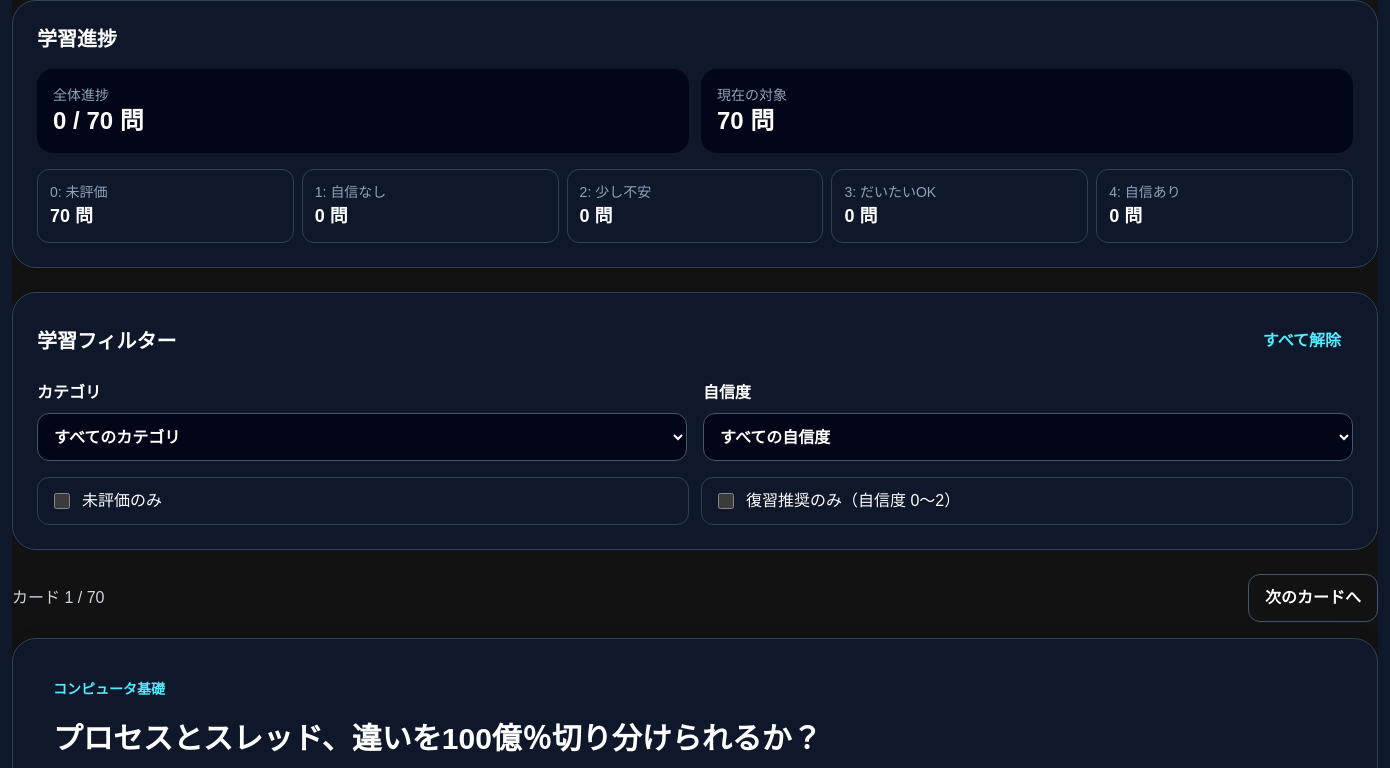
Scenario: FlashCardStudy › identifies the current card and advances through the supplied cards
This screenshot has width=1390, height=768.
Expected: the text "カード 1 / 70" is shown, [12,586,104,610]
Expected: the heading "プロセスとスレッド、違いを100億％切り分けられるか？" is shown, [53,722,822,755]
Click the button "次のカードへ". click: (1313, 598)
box: [1248,574,1378,622]
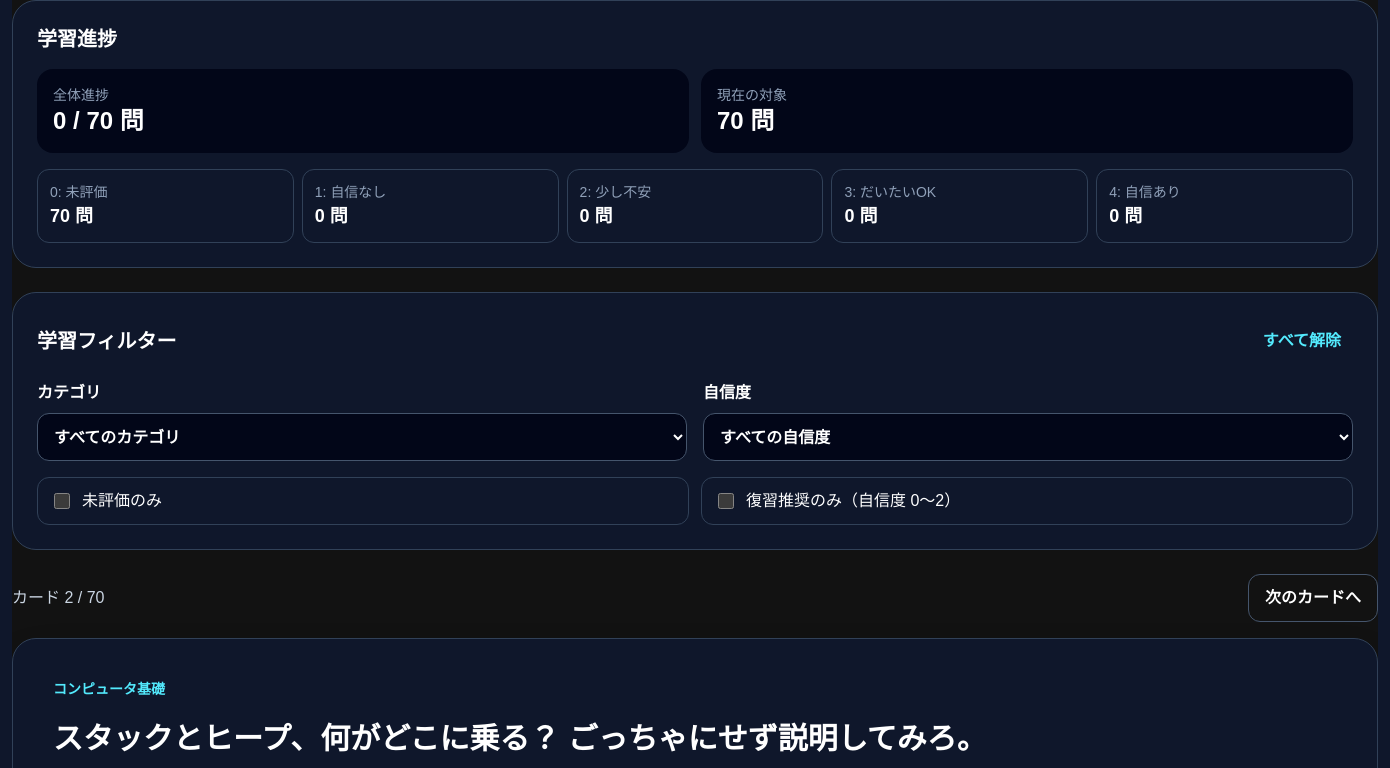
Expected: the heading "スタックとヒープ、何がどこに乗る？ ごっちゃにせず説明してみろ。" is shown, [53,722,987,755]
